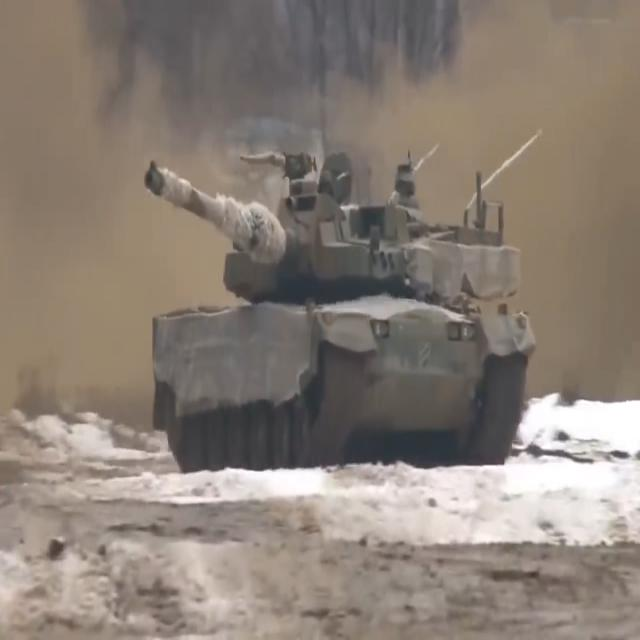korea tank: (142, 151, 538, 477)
